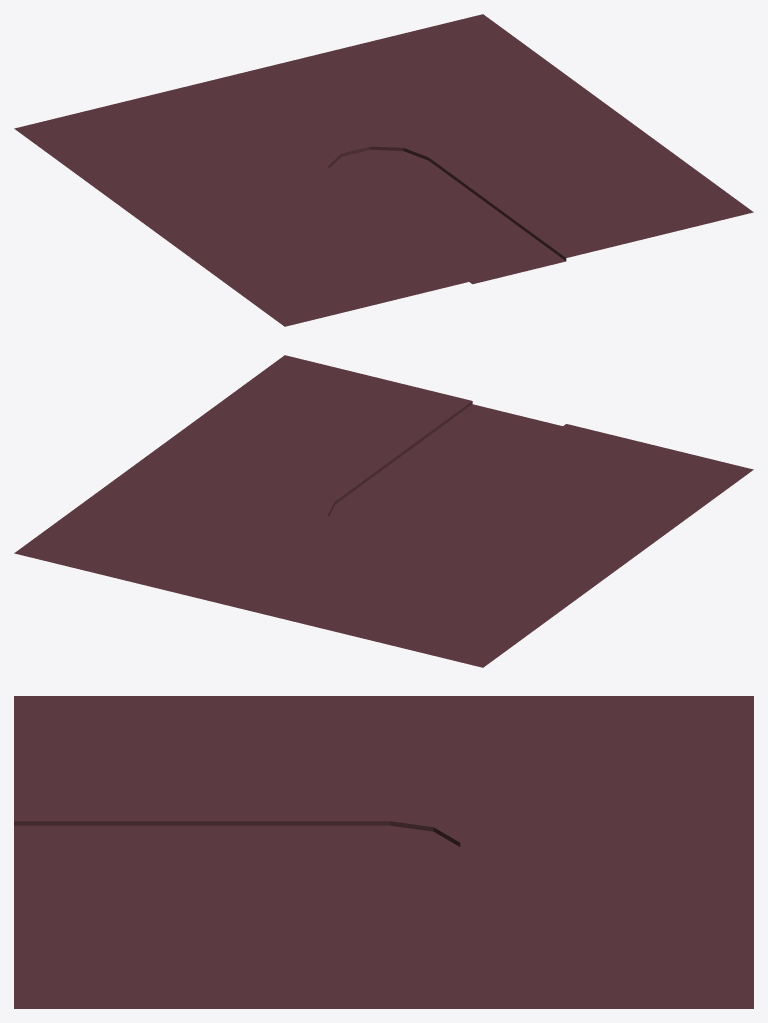
Rendered from tiles-nb-tile-road-end-nb.glb.
3 renders of one model, top to bottom at view 1: azimuth 30°, elevation 25°; view 2: azimuth 150°, elevation 25°; view 3: azimuth 270°, elevation 25°, orthographic. The views are drawn at different scales.
Parts seen in each view (by area): view 1: tile-road-end-nb; view 2: tile-road-end-nb; view 3: tile-road-end-nb.
Part boxes in pixels (box(x1,y1,x2,y2)): tile-road-end-nb: box(14, 14, 753, 326); tile-road-end-nb: box(14, 355, 753, 667); tile-road-end-nb: box(14, 696, 753, 1008).
Size of the model in its own units: 30 by 0.2 by 30.
